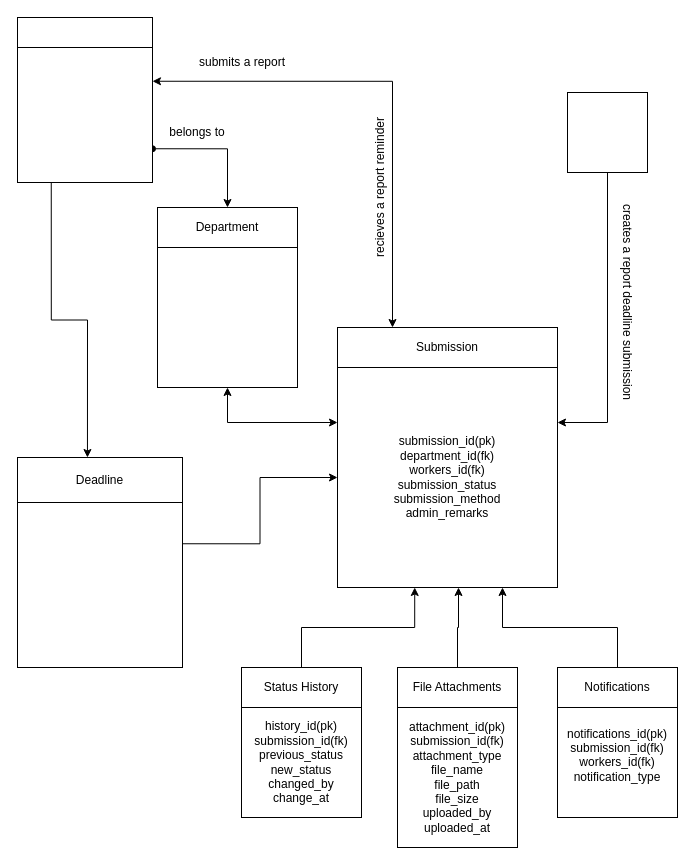
Some shapes in this 695 by 865 pixel diagram are drawn without their labels. Each missing label, with the centre of its shape:
"Admin" belongs at (607,132).
"deadline_id(pk) department_id(fk) deadline_date year month" belongs at (99,585).
"department_id(pk) department_name" belongs at (227,317).
"Worker" belongs at (84,32).
"workers_id(pk) department_id(fk) full_name role/position username password" belongs at (84,114).
